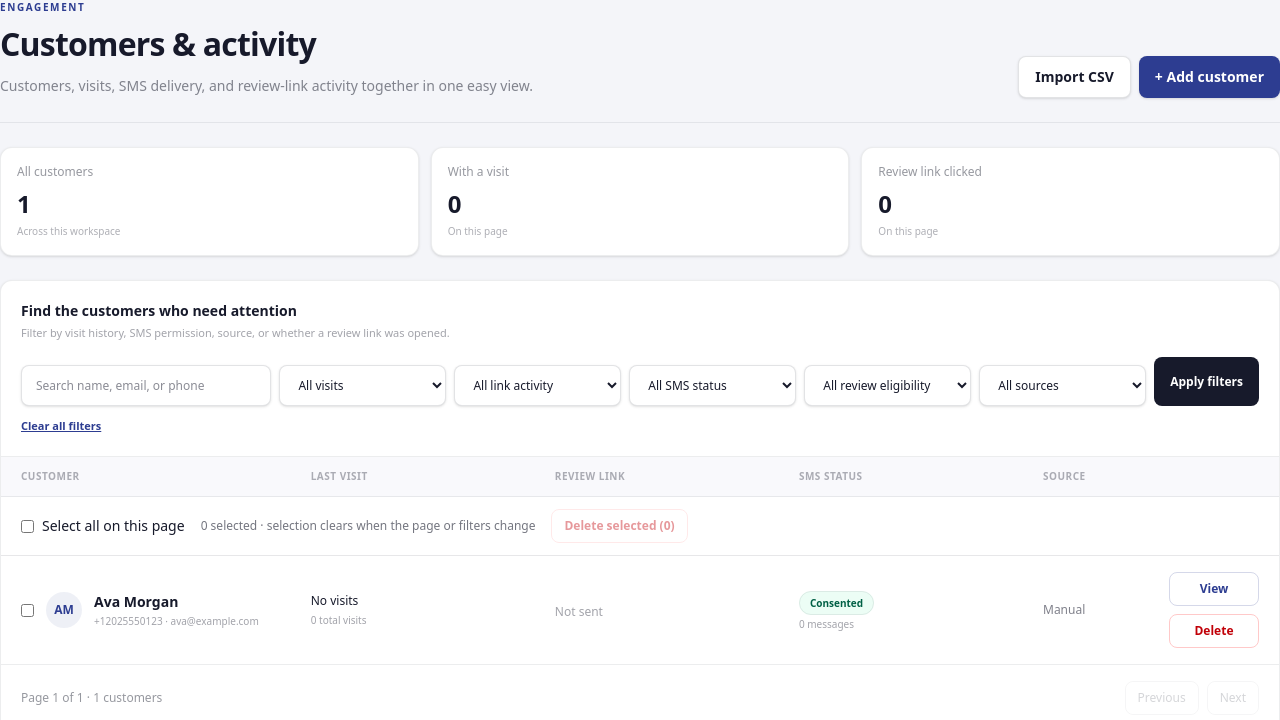
Test: customer directory › renders the customer table and modal workflows
expect the text "Ava Morgan" is shown: met, box [94, 592, 178, 611]
expect the text "Consented" is shown: met, box [799, 591, 874, 615]
Step 1. Click the button "+ Add customer" → (1209, 77), box [1139, 56, 1279, 98]
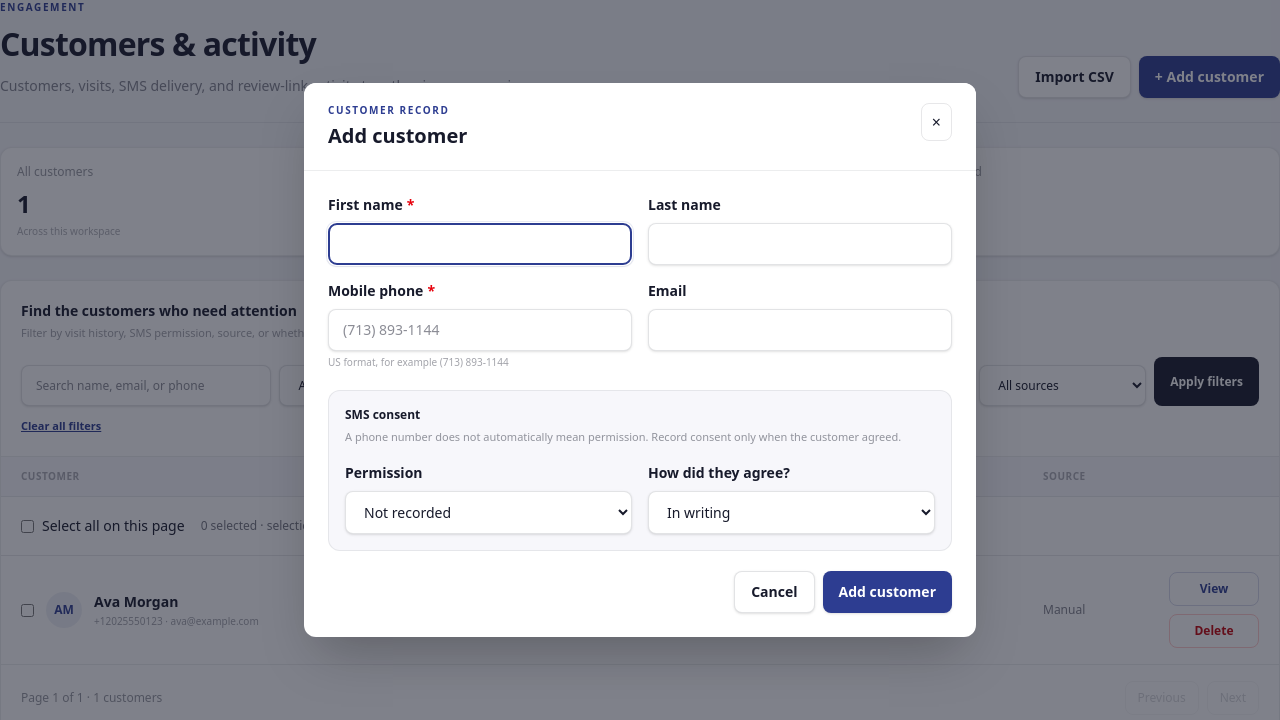
expect the dialog "Add customer" is shown: met, box [304, 83, 976, 637]
Step 2. Click the button named "Close dialog" → (936, 122), box [921, 103, 952, 141]
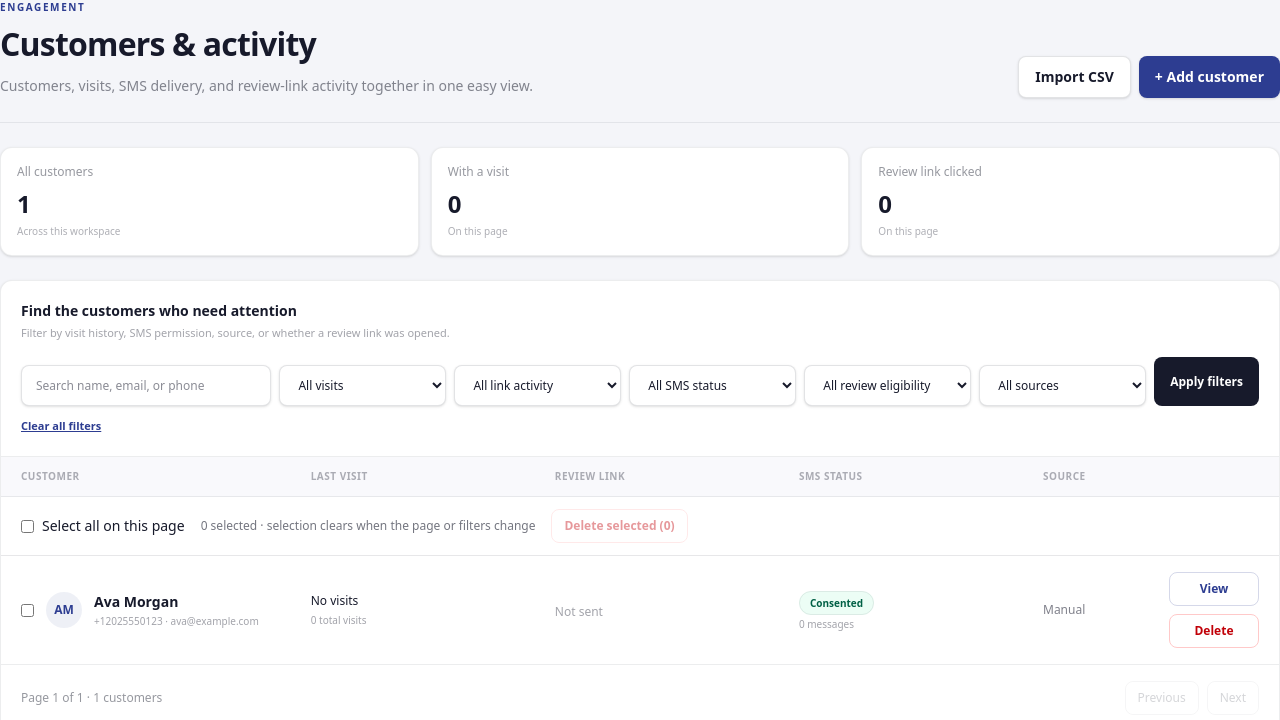
Step 3. Click the button "Import CSV" → (1075, 77), box [1018, 56, 1131, 98]
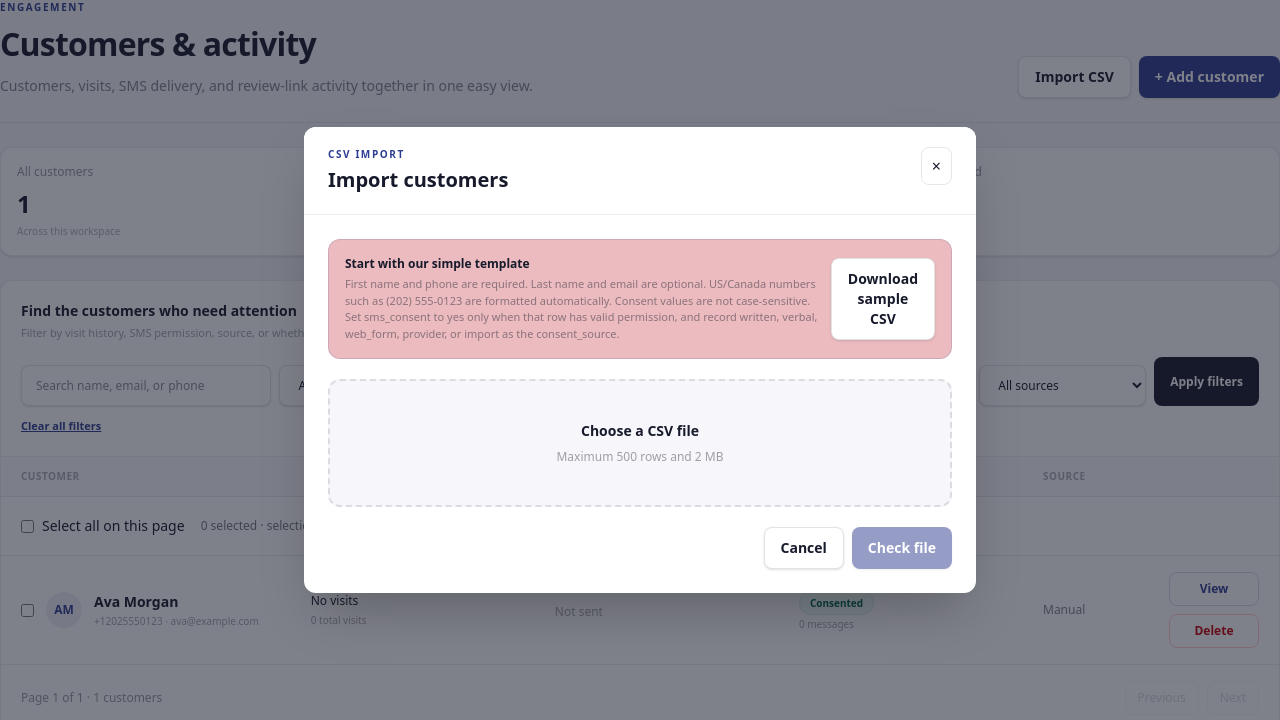
expect the dialog "Import customers" is shown: met, box [304, 127, 976, 593]
expect the button "Download sample CSV" is shown: met, box [831, 258, 935, 340]
expect the text "Maximum 500 rows and 2 MB" is shown: met, box [556, 449, 724, 465]
